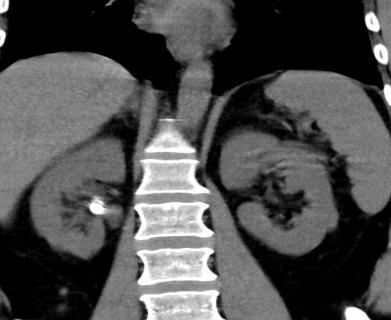Tas_Var: (88, 202, 108, 216), (96, 198, 105, 204)
